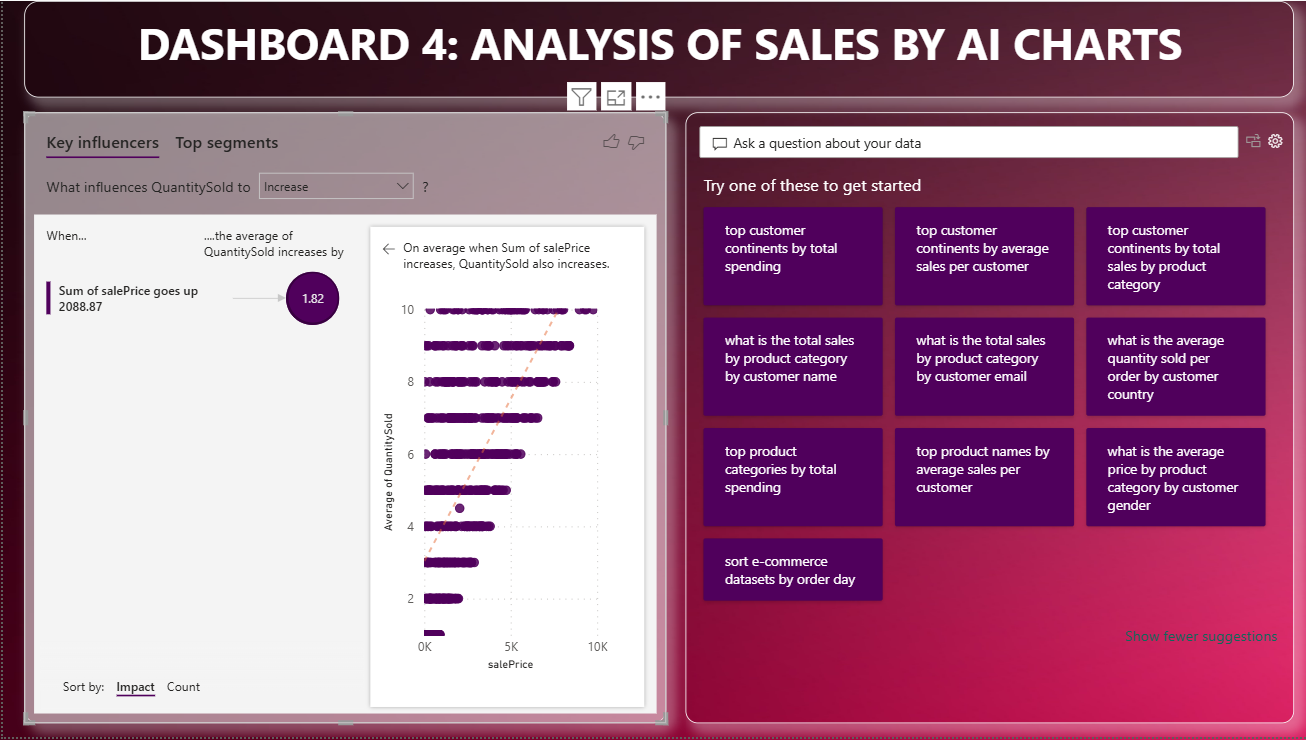

The page's visual inventory and layout, read from the dashboard file:
{"tool":"powerbi","page":{"name":"DASHBOARD 4: ANALYSIS OF SALES BY AI CHARTS","canvas":[1280,720],"ordinal":3},"visuals":[{"type":"keyDriversVisual","fields":{"Target":["E-Commerce Dataset.QuantitySold"],"ExplainBy":["Sum(E-Commerce Dataset.salePrice)"]},"box":[20.8,108.8,628.3,597.8],"z":0},{"type":"qnaVisual","box":[667.4,108.8,595.3,597.8],"z":1000},{"type":"textbox","box":[20.8,0,1242,94.1],"z":2000}]}

Visuals, with their boxes in screenshot pixels (x1, y1, x2, y2), scaled from the page's 1280x720 canvas onto the 1306x740 screenshot:
keyDriversVisual - E-Commerce Dataset.QuantitySold x Sum(E-Commerce Dataset.salePrice): bbox=(21, 112, 662, 726)
qnaVisual: bbox=(681, 112, 1288, 726)
textbox: bbox=(21, 0, 1288, 97)
